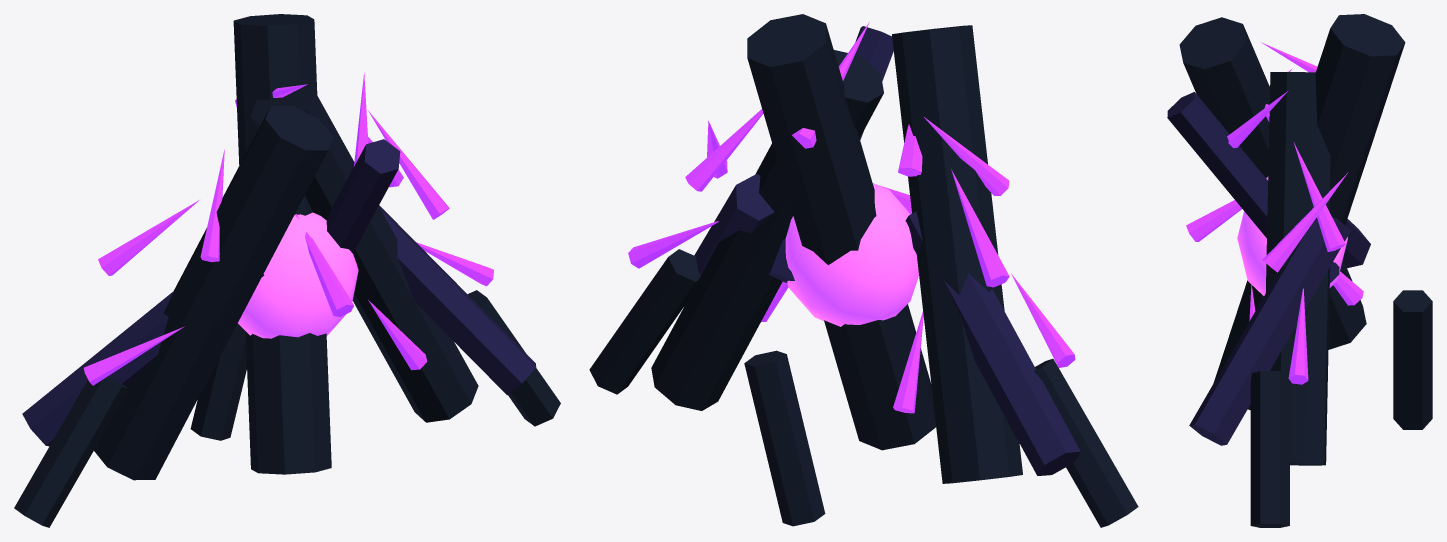
Rendered from espinas_giza.glb.
3 views of the same model, side by side, from view 1: azimuth 30°, elevation 25°; view 2: azimuth 150°, elevation 25°; view 3: azimuth 270°, elevation 25° (orthographic). The views are drawn at different scales.
Visible parts, largest first — view 1: Cylinder, Cylinder.002, Cylinder.001, Icosphere, Cylinder.004, Cylinder.006, Cylinder.003, Cylinder.005, Cylinder.008, Cylinder.007, Cone.011, Cone (+5 smaller); view 2: Cylinder, Cylinder.002, Cylinder.001, Icosphere, Cylinder.003, Cylinder.008, Cylinder.007, Cylinder.006, Cylinder.004, Cylinder.005, Cone, Cone.010 (+6 smaller); view 3: Cylinder.001, Cylinder.002, Cylinder, Cylinder.004, Cylinder.007, Cylinder.005, Cylinder.008, Icosphere, Cone.001, Cone.010, Cone.005, Cone.011 (+4 smaller).
Boxes of the visible parts, x1,y1,x2,y2 form: Cylinder: (94, 106, 333, 480); Cylinder.002: (233, 14, 331, 474); Cylinder.001: (250, 79, 478, 422); Icosphere: (238, 212, 358, 338); Cylinder.004: (379, 205, 536, 395); Cylinder.006: (14, 376, 128, 527); Cylinder.003: (22, 274, 264, 446); Cylinder.005: (326, 139, 400, 253); Cylinder.008: (190, 323, 246, 440); Cylinder.007: (467, 290, 560, 426); Cone.011: (295, 214, 354, 316); Cone: (98, 200, 199, 275); Cylinder: (892, 25, 1022, 483); Cylinder.002: (747, 14, 935, 450); Cylinder.001: (651, 50, 883, 410); Icosphere: (785, 183, 918, 326); Cylinder.003: (905, 211, 1080, 475); Cylinder.008: (744, 350, 825, 526); Cylinder.007: (589, 249, 700, 394); Cylinder.006: (1034, 359, 1138, 527); Cylinder.004: (694, 174, 774, 274); Cylinder.005: (768, 26, 893, 282); Cone: (951, 169, 1009, 287); Cone.010: (685, 109, 763, 191); Cylinder.001: (1266, 72, 1331, 465); Cylinder.002: (1213, 14, 1405, 410); Cylinder: (1179, 17, 1366, 349); Cylinder.004: (1189, 216, 1350, 445); Cylinder.007: (1250, 371, 1289, 527); Cylinder.005: (1167, 92, 1339, 282); Cylinder.008: (1393, 290, 1432, 429); Icosphere: (1237, 176, 1347, 295); Cone.001: (1262, 172, 1348, 272); Cone.010: (1293, 142, 1345, 251); Cone.005: (1288, 288, 1308, 384); Cone.011: (1186, 200, 1241, 241).
Size of the model in its own units: 2.05 by 1.64 by 0.9475.
